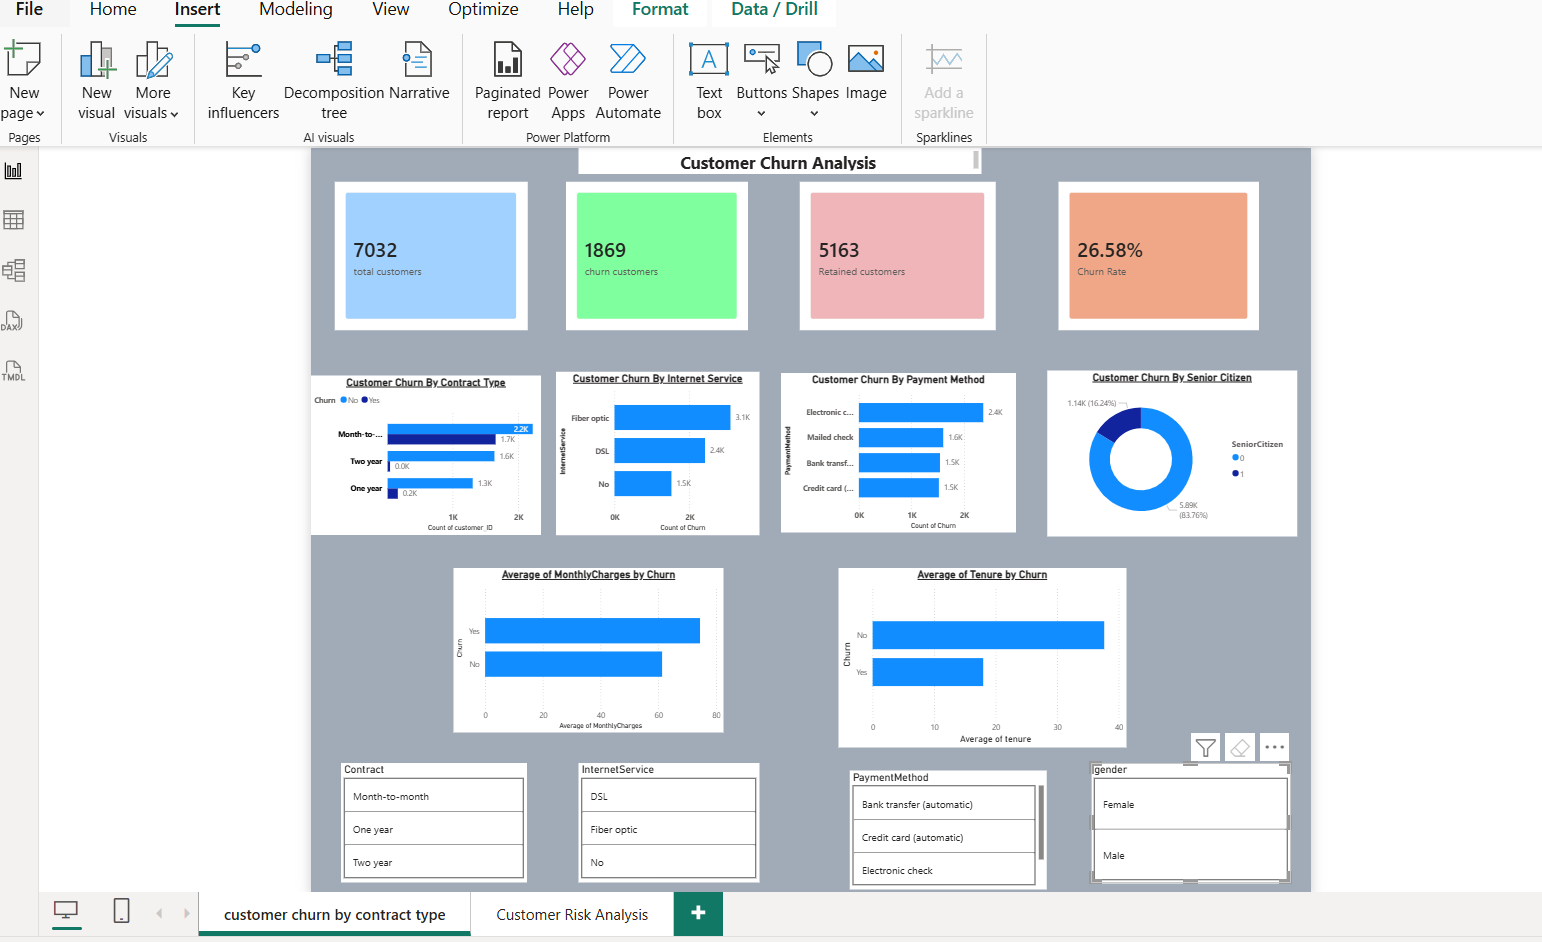

The dashboard page shown, as its layout file describes it:
{"tool":"powerbi","page":{"name":"customer churn by contract type","canvas":[1600,1199],"ordinal":0},"visuals":[{"type":"cardVisual","fields":{"Data":["Cleaned_customer_churn.total customers"]},"box":[37.9,53.4,308.6,237.9],"z":0},{"type":"cardVisual","fields":{"Data":["Cleaned_customer_churn.churn customers"]},"box":[408.6,53.4,291.4,237.9],"z":1000},{"type":"cardVisual","fields":{"Data":["Cleaned_customer_churn.Retained customers"]},"box":[782.8,53.4,313.8,237.9],"z":2000},{"type":"cardVisual","fields":{"Data":["Cleaned_customer_churn.Churn Rate"]},"box":[1196.6,53.4,320.7,237.9],"z":3000},{"type":"clusteredBarChart","title":"Customer Churn By Contract Type","fields":{"Category":["Cleaned_customer_churn.Contract"],"Series":["Cleaned_customer_churn.Churn"],"Y":["CountNonNull(Cleaned_customer_churn.customer_ID)"]},"box":[0,363.9,368,255.4],"z":4000},{"type":"barChart","title":" Customer Churn By Internet Service","fields":{"Category":["Cleaned_customer_churn.InternetService"],"Y":["CountNonNull(Cleaned_customer_churn.Churn)"]},"box":[392.1,357.9,325.7,261.4],"z":5000},{"type":"barChart","title":"Customer Churn By Payment Method","fields":{"Category":["Cleaned_customer_churn.PaymentMethod"],"Y":["CountNonNull(Cleaned_customer_churn.Churn)"]},"box":[752,359.9,376,255.4],"z":6000},{"type":"donutChart","title":"Customer Churn By Senior Citizen","fields":{"Category":["Cleaned_customer_churn.SeniorCitizen"],"Y":["CountNonNull(Cleaned_customer_churn.Churn)"]},"box":[1178.3,355.9,400.1,265.4],"z":7000},{"type":"advancedSlicerVisual","fields":{"Values":["Cleaned_customer_churn.Contract"]},"box":[48.3,983.2,297.6,191],"z":8000},{"type":"advancedSlicerVisual","fields":{"Values":["Cleaned_customer_churn.InternetService"]},"box":[428.3,983.2,289.5,191],"z":9000},{"type":"advancedSlicerVisual","fields":{"Values":["Cleaned_customer_churn.PaymentMethod"]},"box":[862.5,995.8,315.3,190.3],"z":10000},{"type":"advancedSlicerVisual","fields":{"Values":["Cleaned_customer_churn.gender"]},"box":[1248.7,983.2,319.7,193],"z":11000},{"type":"barChart","fields":{"Y":["Avg(Cleaned_customer_churn.MonthlyCharges)"],"Category":["Cleaned_customer_churn.Churn"]},"box":[227.2,671.6,432.3,263.4],"z":12000},{"type":"barChart","title":"Average of Tenure by Churn","fields":{"Category":["Cleaned_customer_churn.Churn"],"Y":["Avg(Cleaned_customer_churn.tenure)"]},"box":[844.5,671.6,460.5,287.5],"z":13000},{"type":"textbox","box":[427.6,0,644.8,41.4],"z":13002}]}

Visuals, with their boxes on the page's 1600x1199 design canvas (x1, y1, x2, y2). These are canvas units, not pixel positions in the 1542x942 screenshot, which may show the page scaled, cropped or inside an application window:
cardVisual - Cleaned_customer_churn.total customers: [38,53,346,291]
cardVisual - Cleaned_customer_churn.churn customers: [409,53,700,291]
cardVisual - Cleaned_customer_churn.Retained customers: [783,53,1097,291]
cardVisual - Cleaned_customer_churn.Churn Rate: [1197,53,1517,291]
"Customer Churn By Contract Type" clusteredBarChart: [0,364,368,619]
" Customer Churn By Internet Service" barChart: [392,358,718,619]
"Customer Churn By Payment Method" barChart: [752,360,1128,615]
"Customer Churn By Senior Citizen" donutChart: [1178,356,1578,621]
advancedSlicerVisual - Cleaned_customer_churn.Contract: [48,983,346,1174]
advancedSlicerVisual - Cleaned_customer_churn.InternetService: [428,983,718,1174]
advancedSlicerVisual - Cleaned_customer_churn.PaymentMethod: [862,996,1178,1186]
advancedSlicerVisual - Cleaned_customer_churn.gender: [1249,983,1568,1176]
barChart - Avg(Cleaned_customer_churn.MonthlyCharges) x Cleaned_customer_churn.Churn: [227,672,660,935]
"Average of Tenure by Churn" barChart: [844,672,1305,959]
textbox: [428,0,1072,41]
